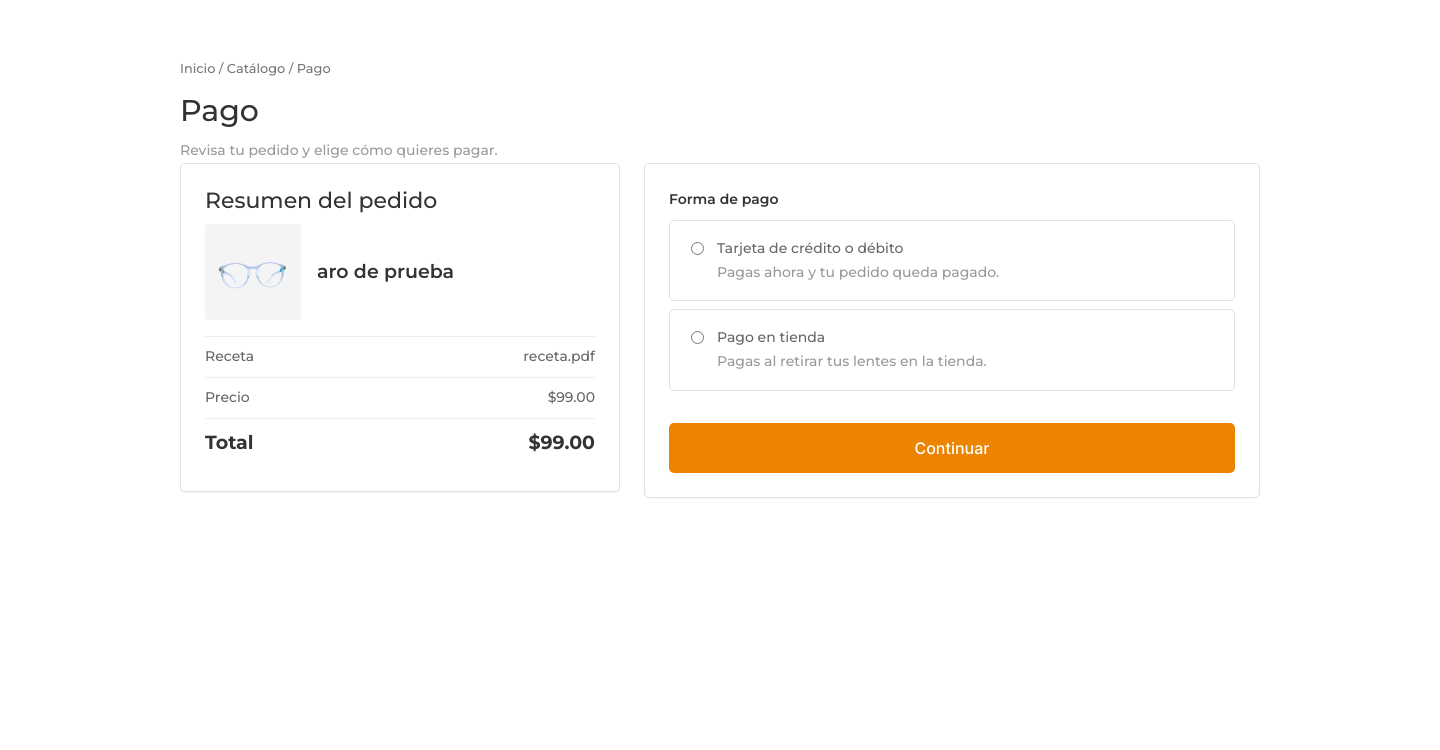
Test: PaymentPage: registro del pedido › registra el pedido y el pago aprobado, y muestra el número (CA1)
Expected: the button "Continuar" is shown, [669,423,1235,473]
Click the radio button labelled "Tarjeta de crédito o débito" at (698, 248), box [691,242,704,255]
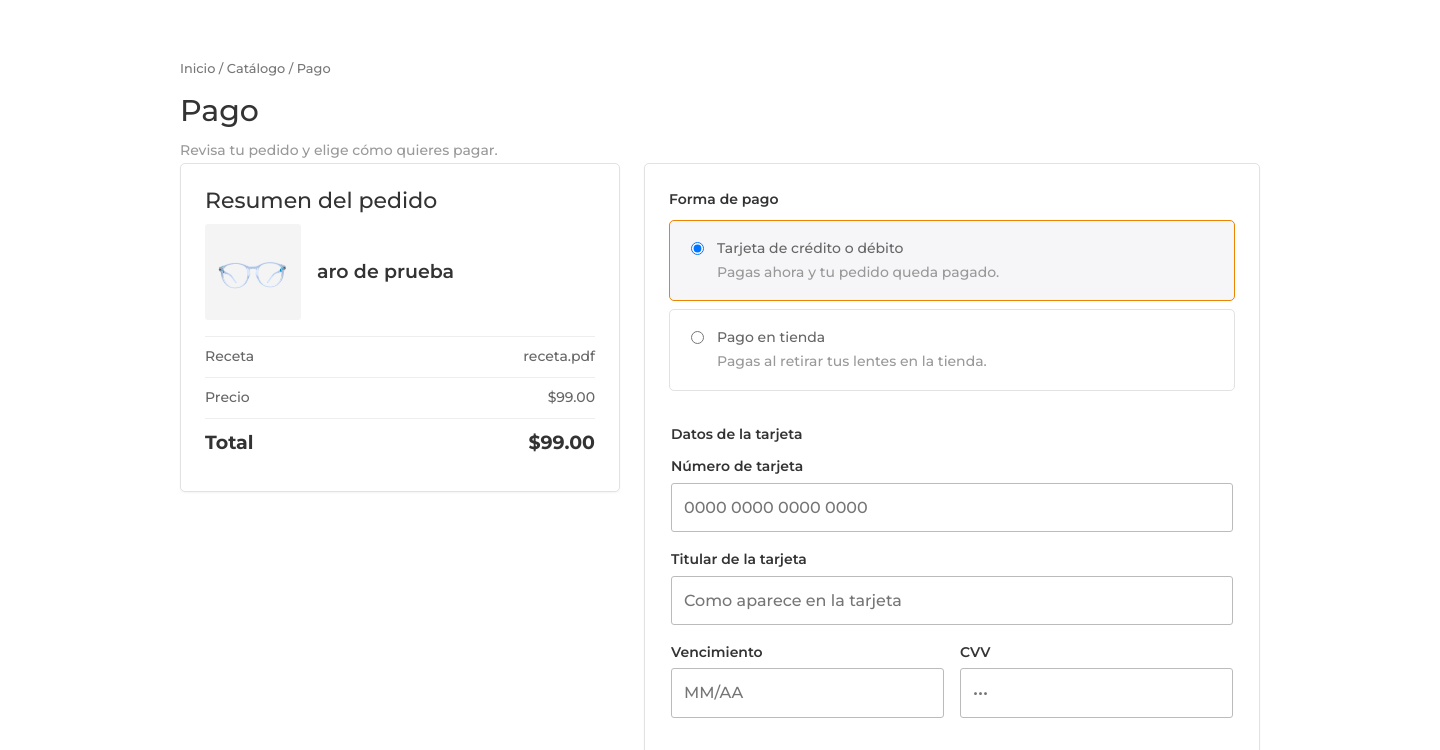
Type "4242424242424242" into the field labelled "Número de tarjeta" at (952, 507), box [671,482,1233,532]
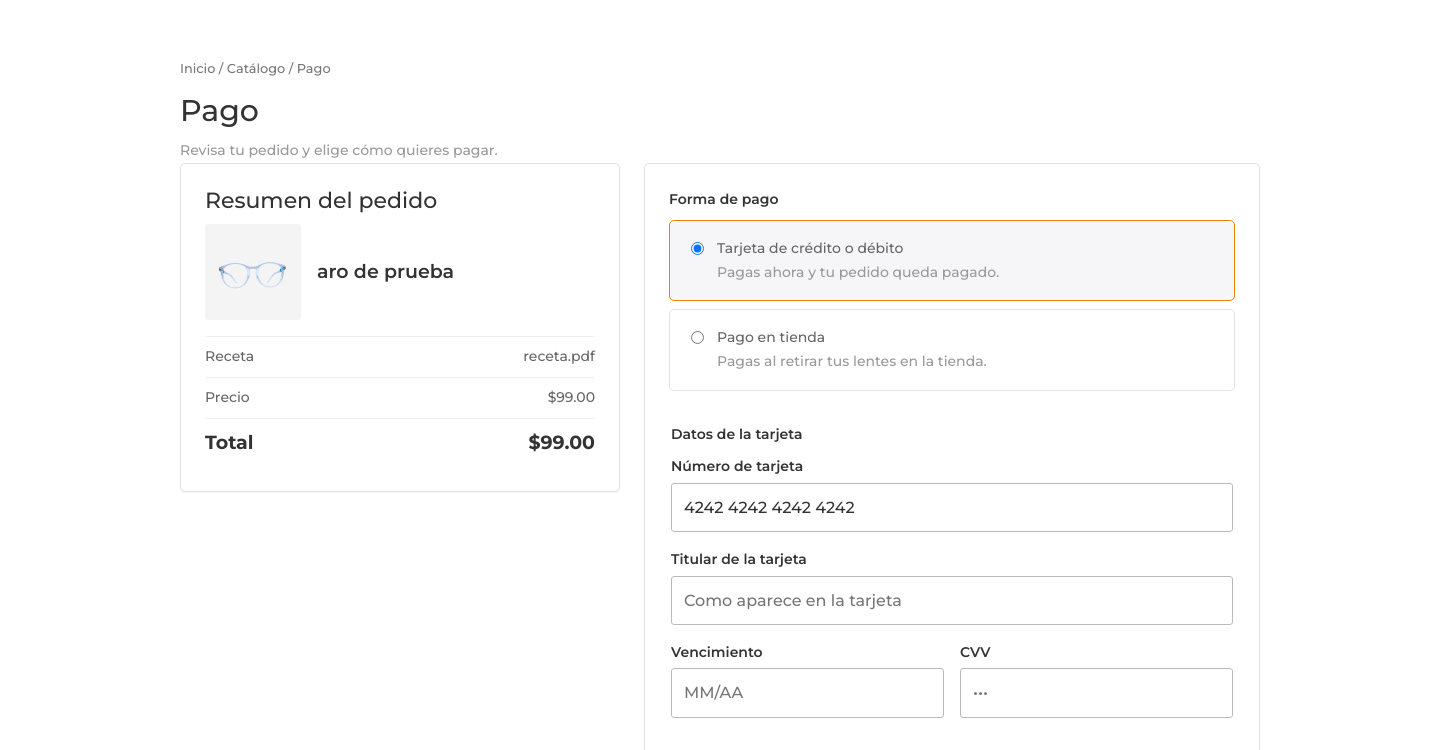
Type "Ana López" into the field labelled "Titular de la tarjeta" at (952, 600), box [671,576,1233,625]
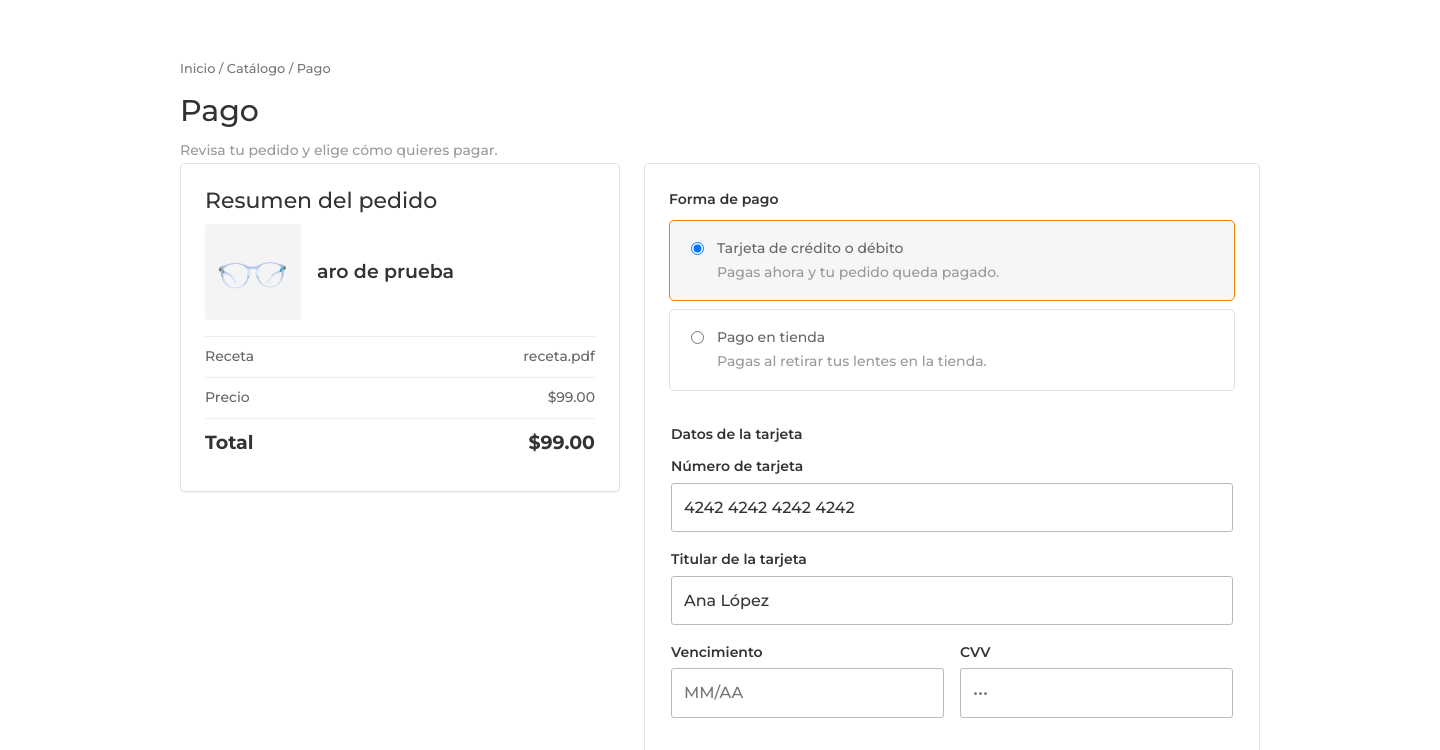
Type "1235" into the field labelled "Vencimiento" at (808, 693), box [671,668,944,718]
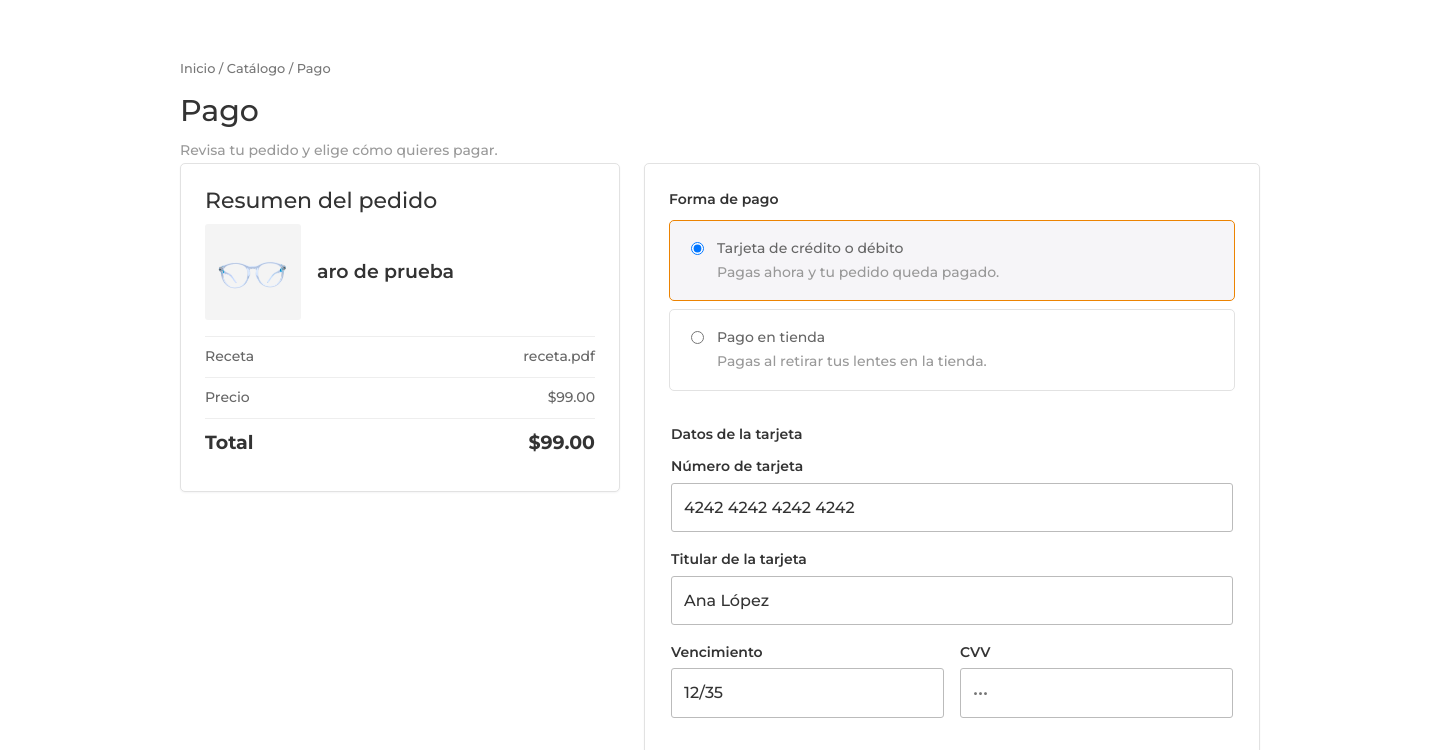
Type "123" into the password field labelled "CVV" at (1096, 693), box [960,668,1233,718]
(page scrolled)
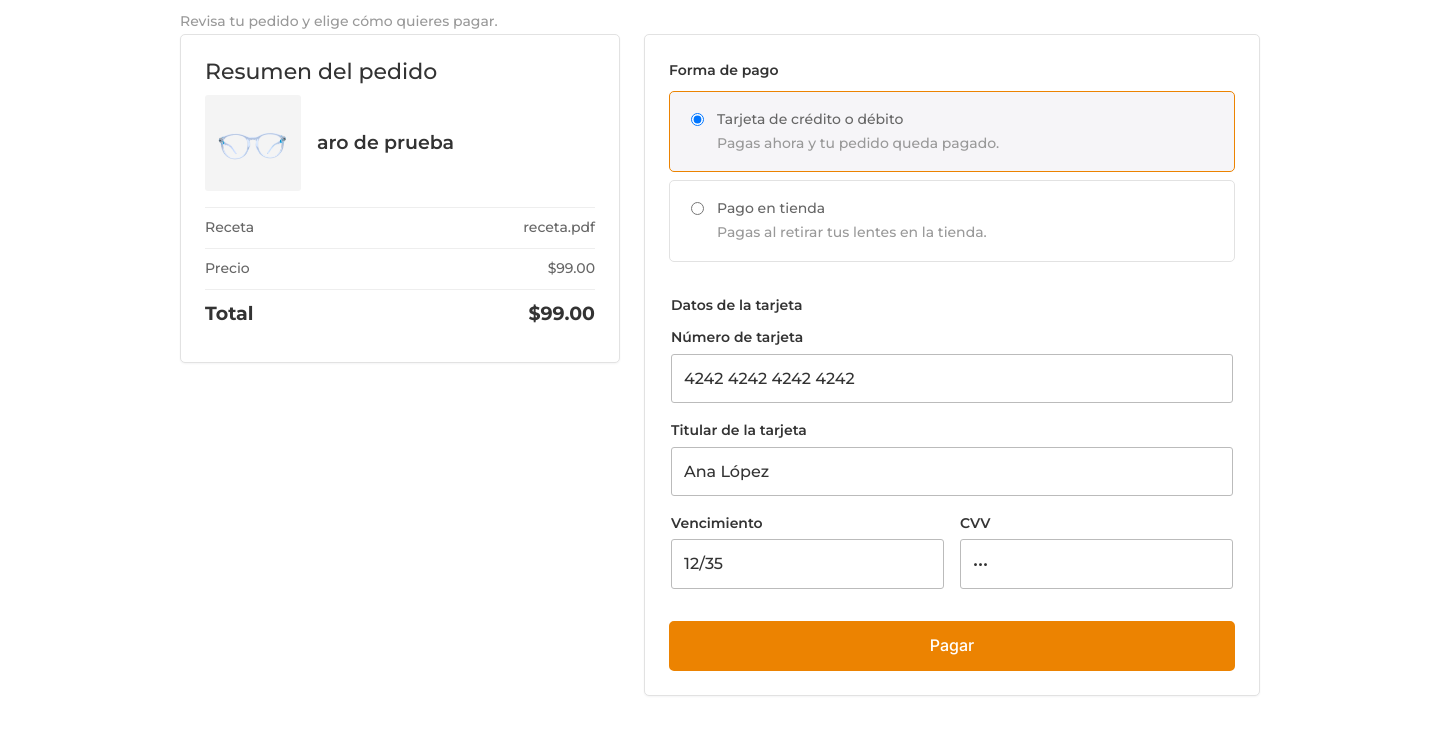
Click the button "Pagar" at (952, 646), box [669,621,1235,671]
(page scrolled)
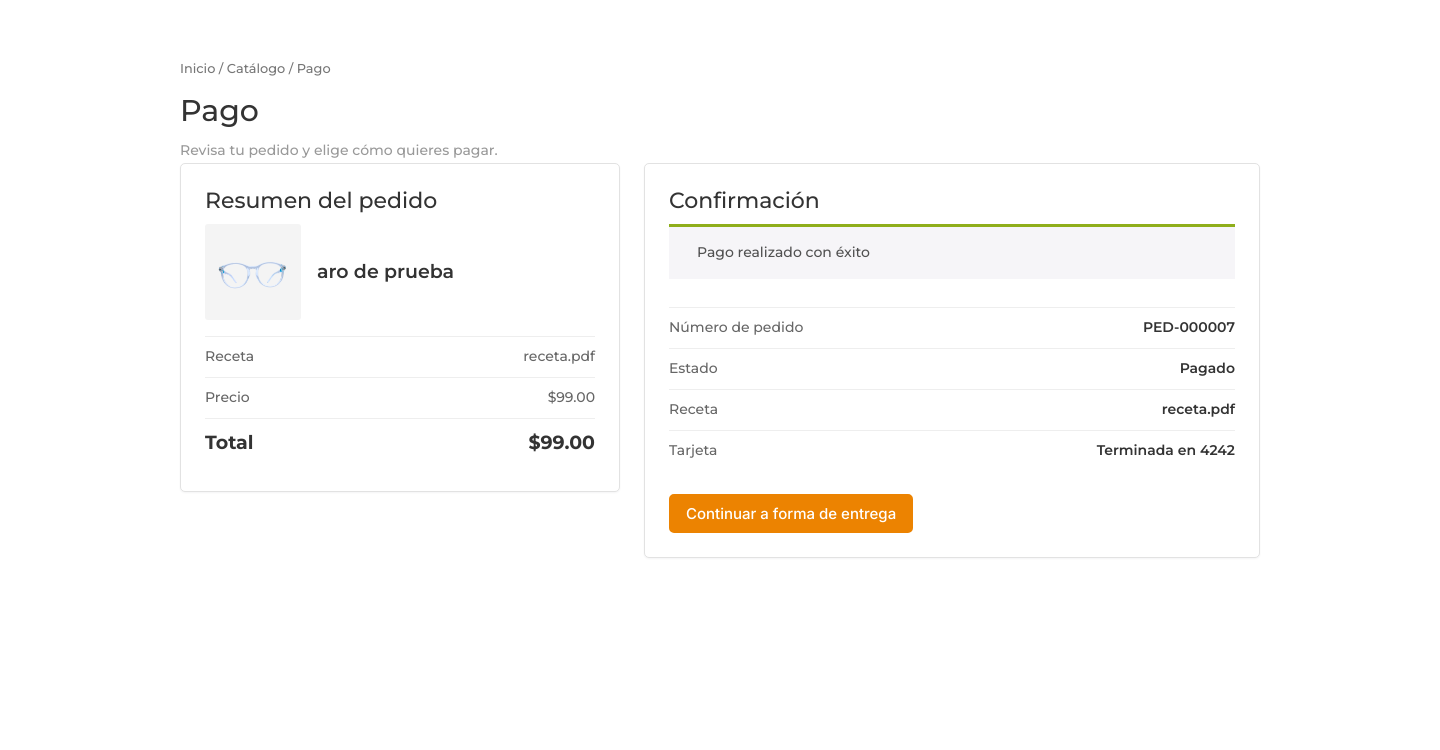
Now the text "Pago realizado con éxito" is shown, box [669,224,1235,279]
Now the text "PED-000007" is shown, box [1143,316,1235,340]
Now the text "Terminada en 4242" is shown, box [1097,438,1235,462]
